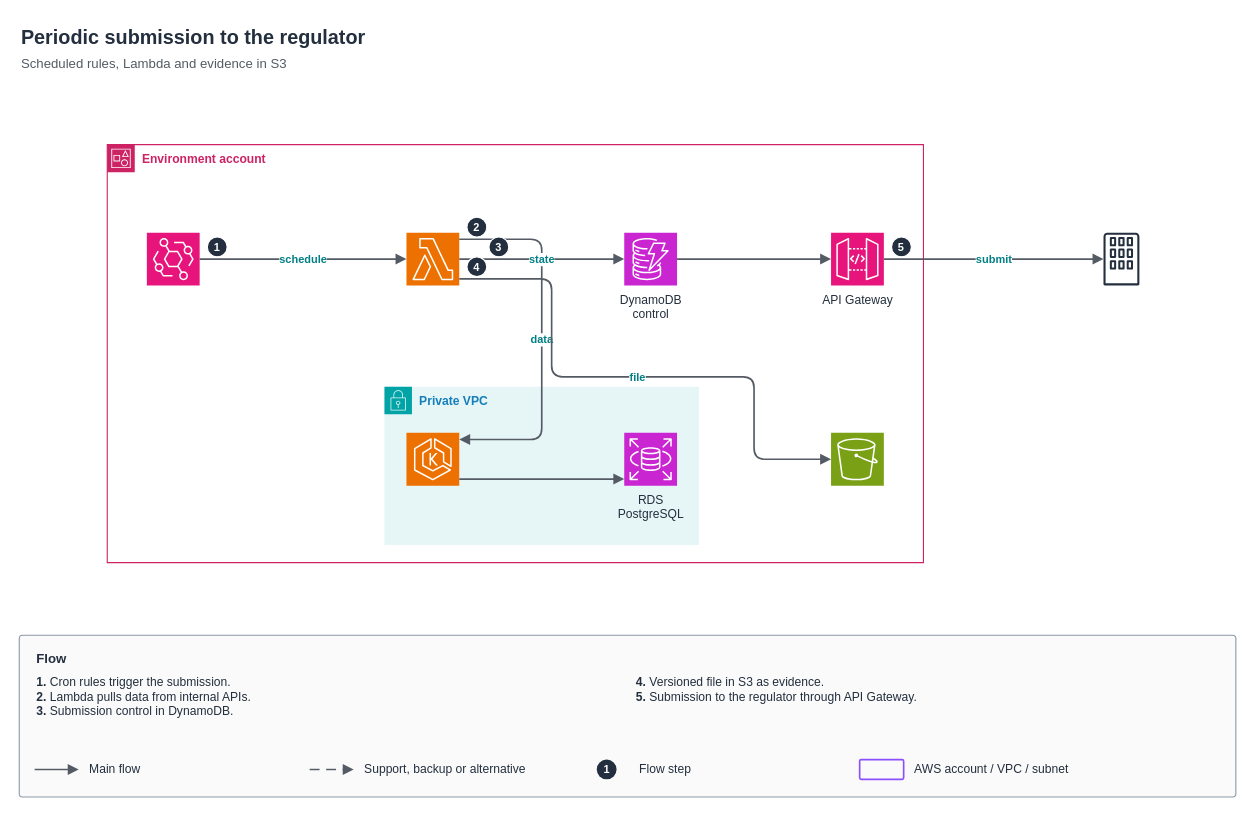
Image size: 1255x816. Some labels were removed from this diagram. The centre of each missing label's shape, as x and y in pixels:
"EventBridge 6 cron rules" belongs at pixel 173 258.
"Lambda builds the file" belongs at pixel 432 258.
"Policy, product and finance APIs" belongs at pixel 432 459.
"Regulator" belongs at pixel 1120 258.
"S3 evidence" belongs at pixel 857 459.
